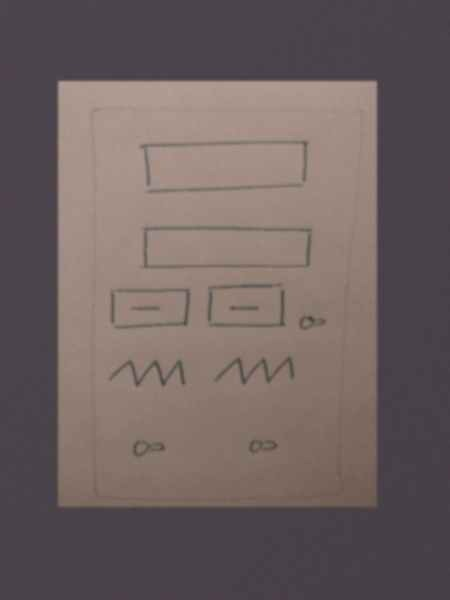button: (203, 283, 294, 333), (106, 284, 194, 332)
switch: (121, 431, 179, 462), (241, 434, 285, 464), (290, 310, 335, 337)
text: (206, 350, 306, 394), (106, 351, 191, 392)
text_input: (133, 137, 317, 196), (134, 219, 314, 275)
